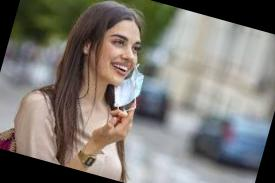mask_weared_incorrect: (97, 30, 151, 97)
